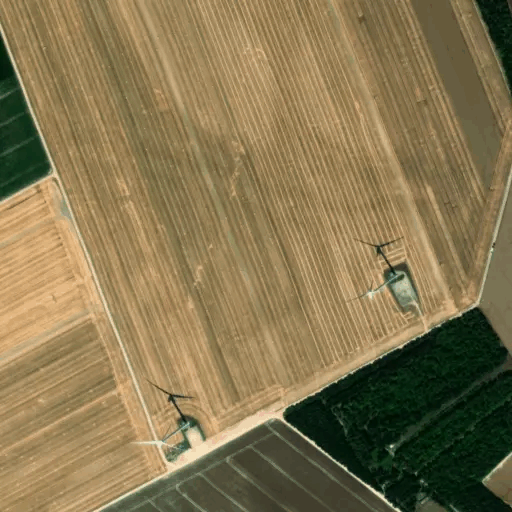wt: (346, 226, 428, 311), (131, 377, 216, 451)
